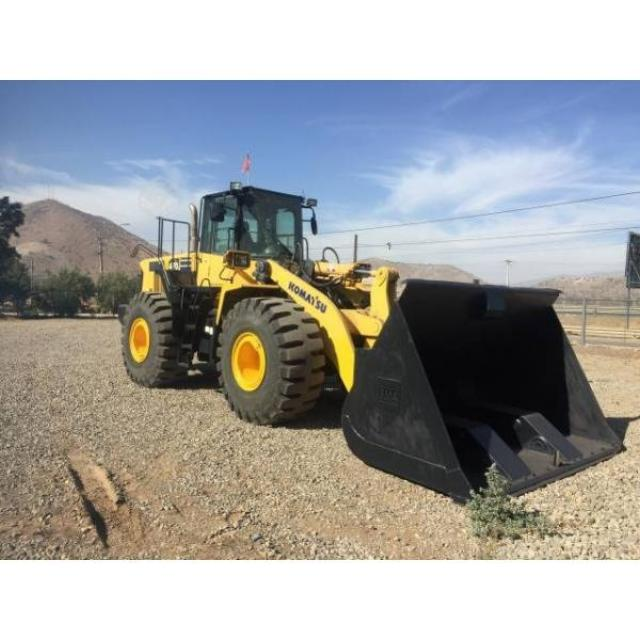buldozerpayloadergrader: (115, 168, 639, 512)
